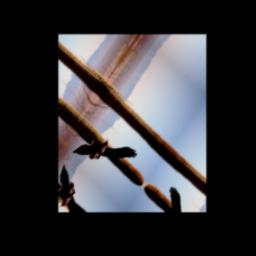Crow: (71, 115, 140, 192)
